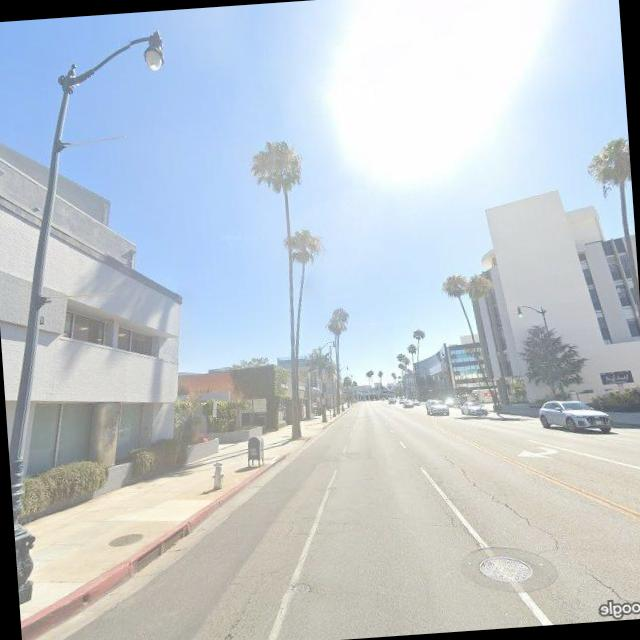crack: (266, 513, 316, 542)
pothole: (451, 453, 561, 552), (578, 556, 630, 604)
